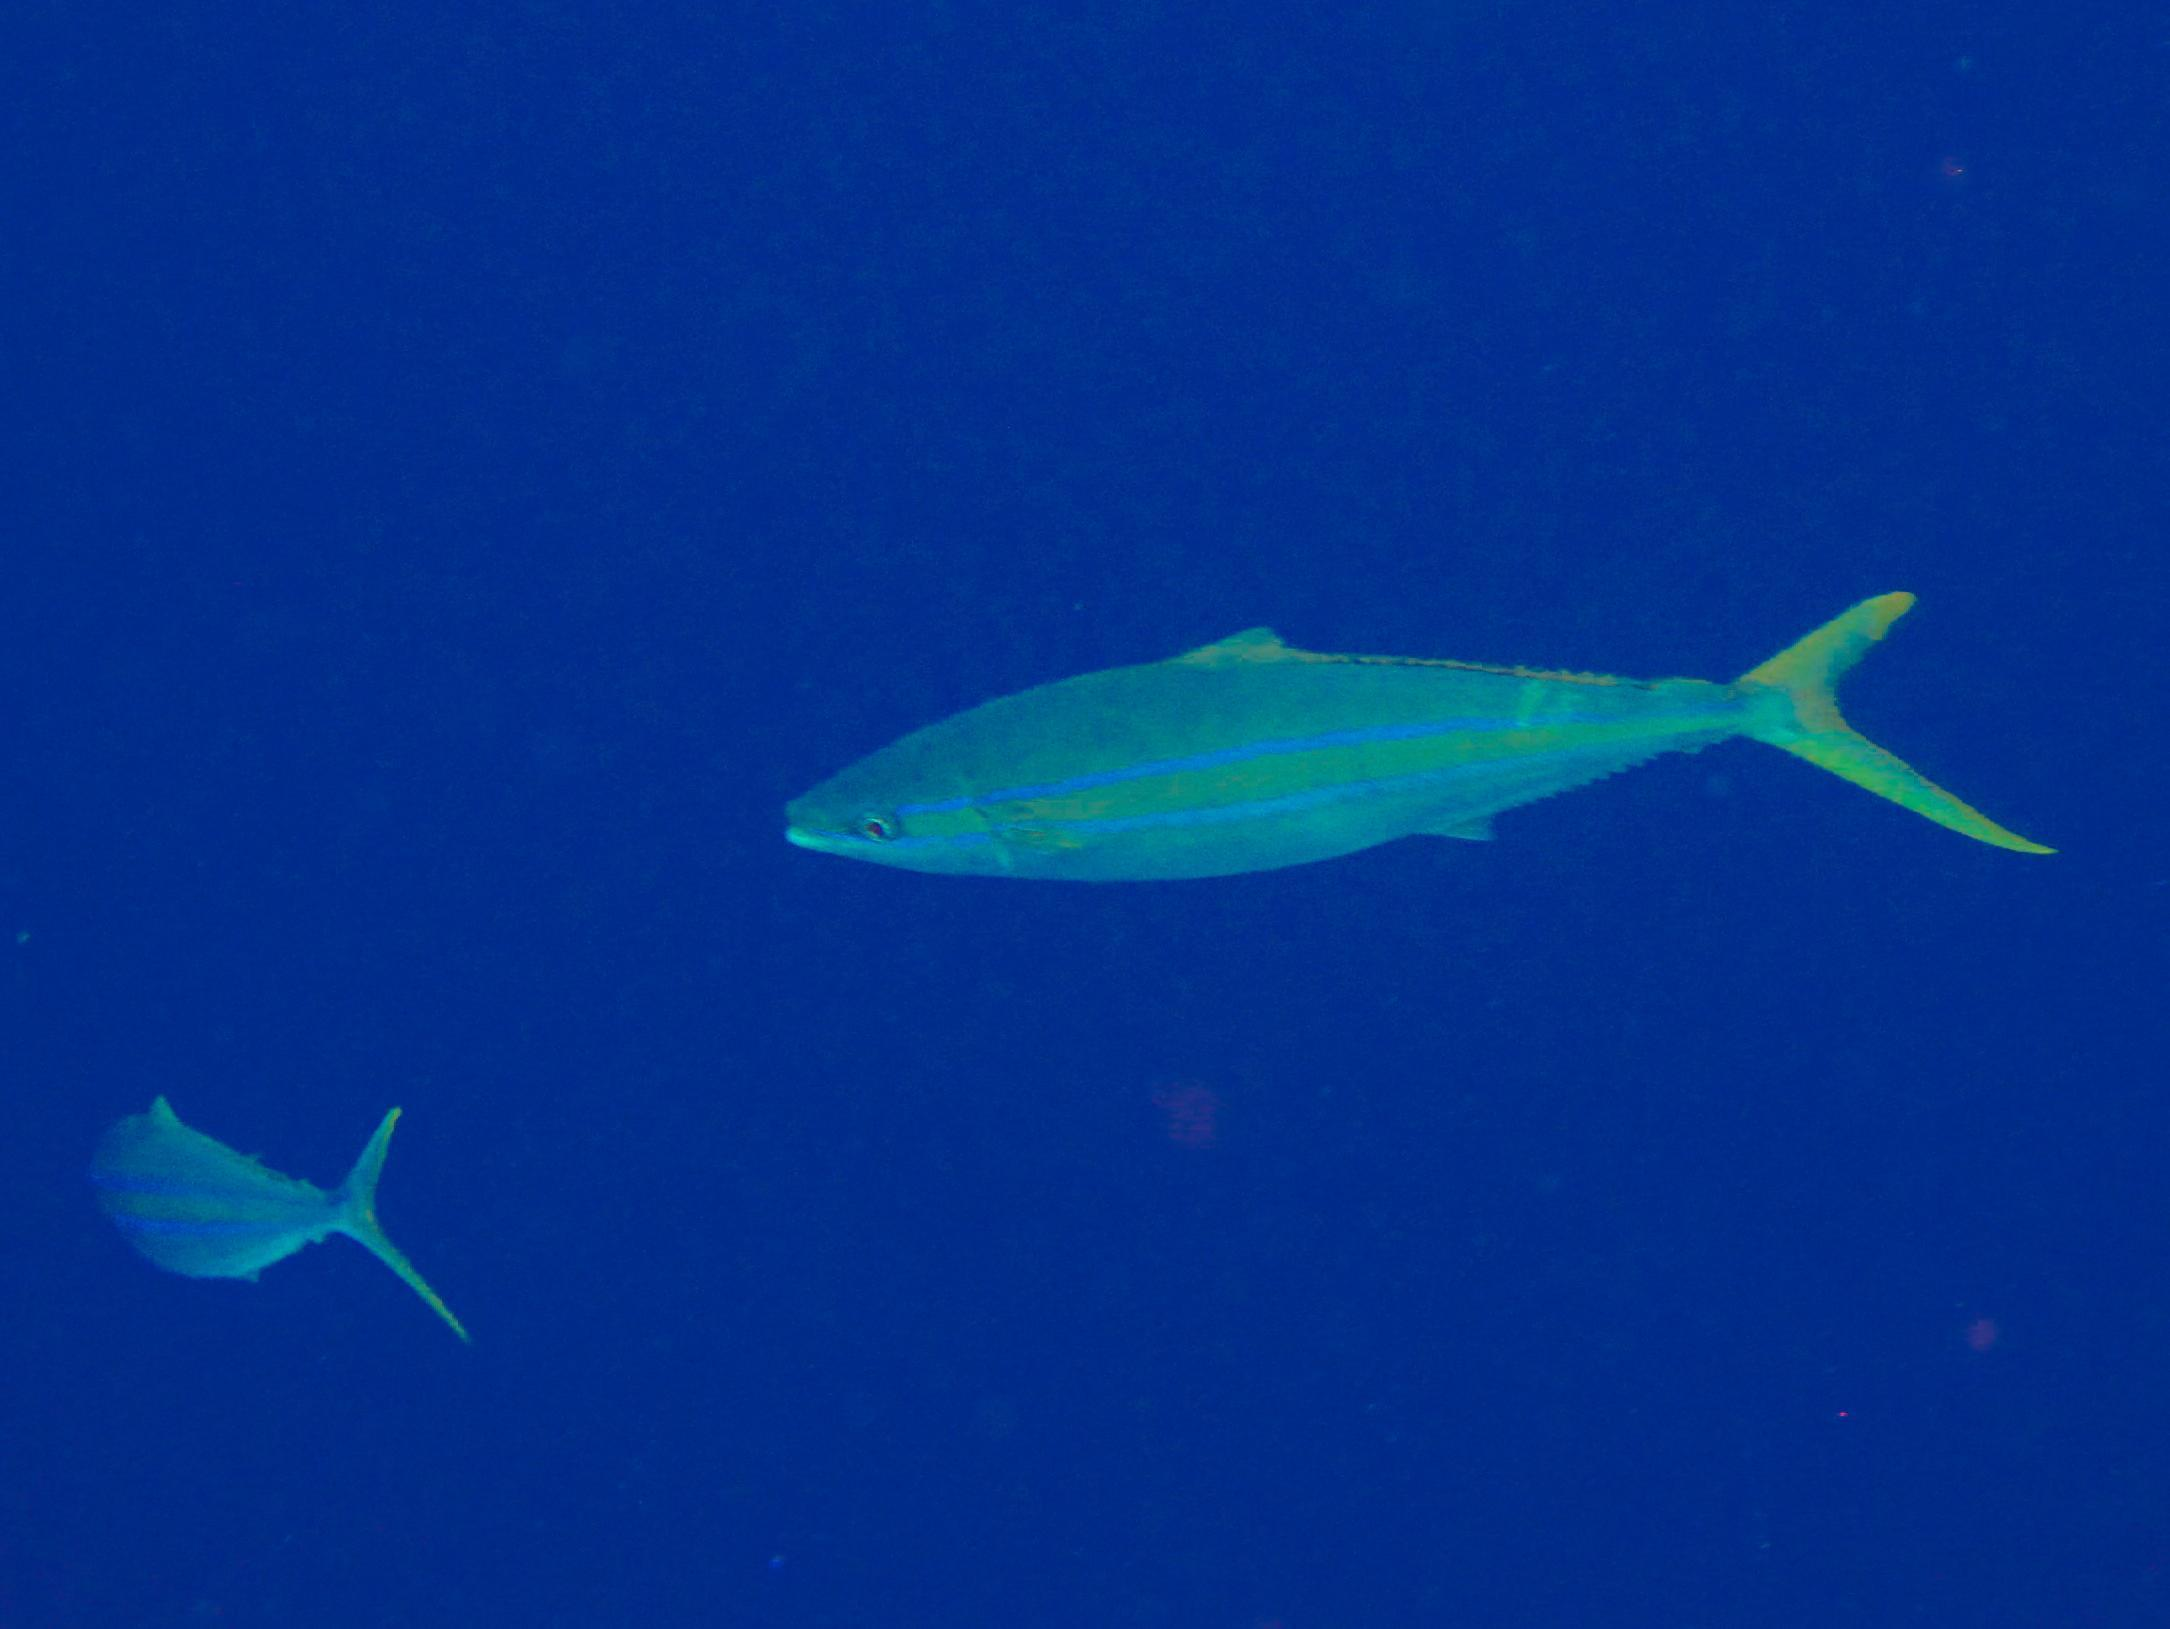Fish: (741, 558, 2102, 902), (67, 1078, 486, 1342)
